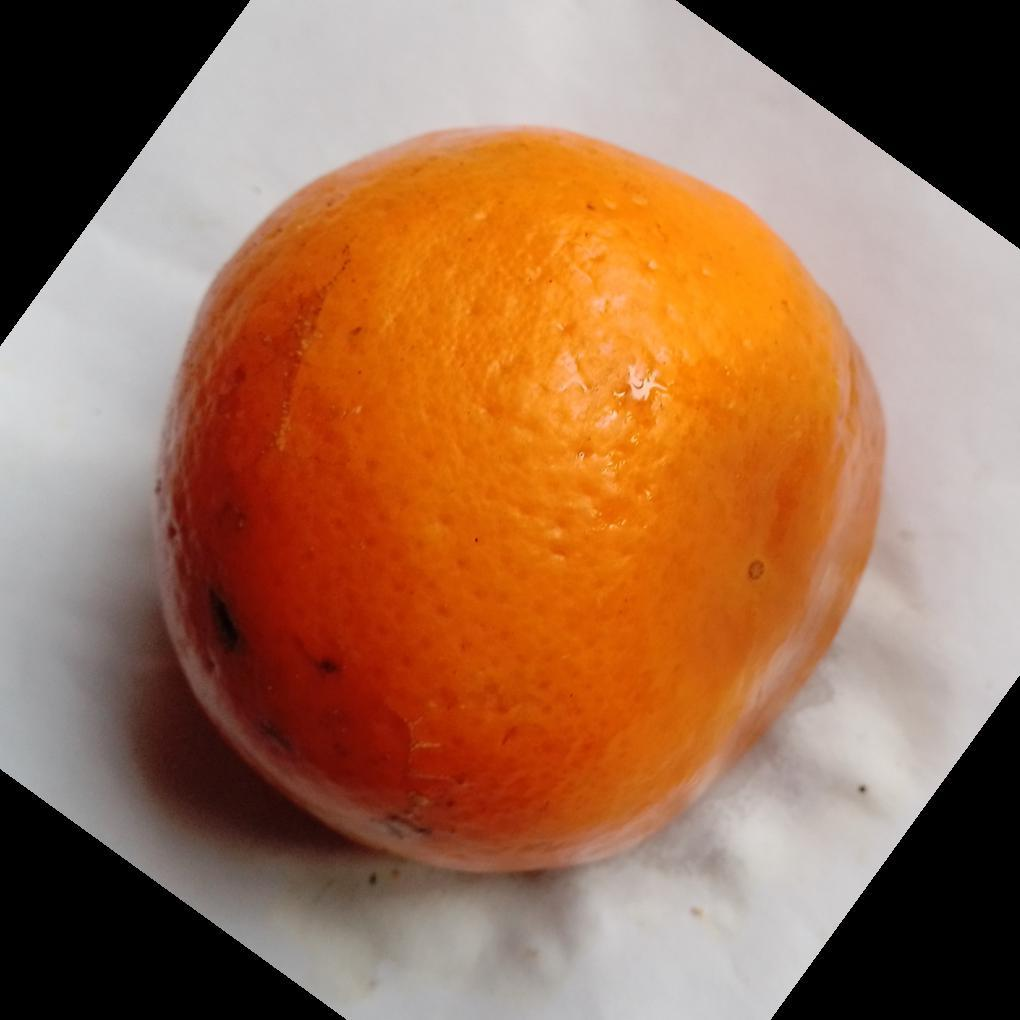FreshOrange: (150, 126, 888, 880)
